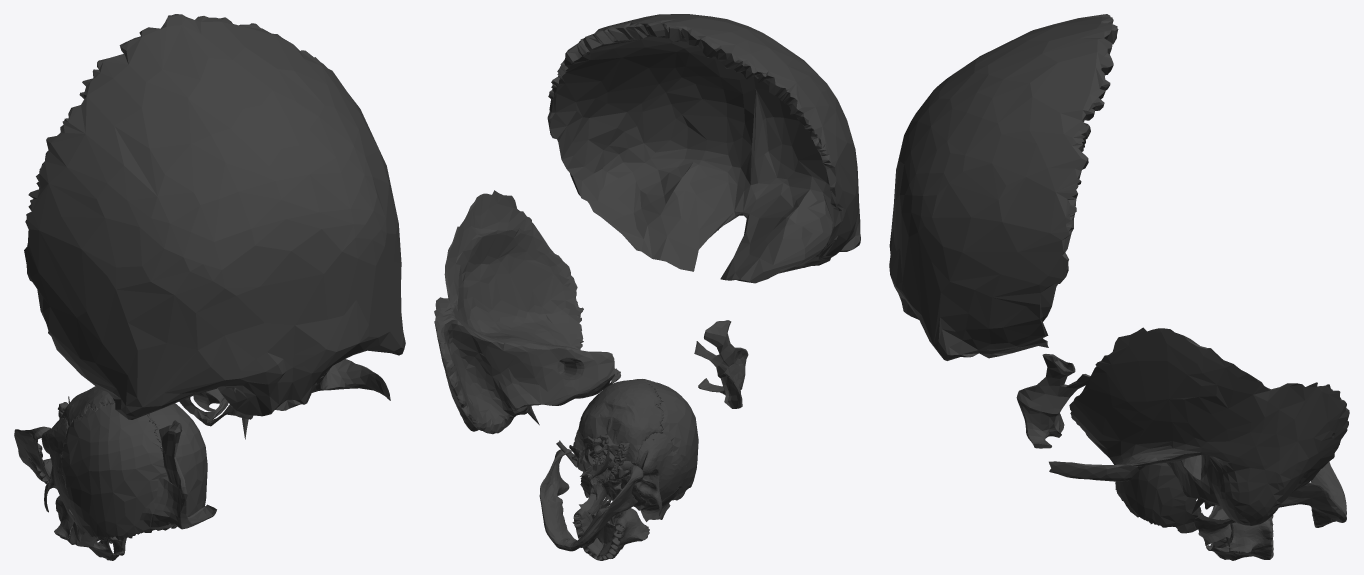
File: sharedassets21.glb
The picture shows the model from 3 angles, left to right: view 1: azimuth 30°, elevation 25°; view 2: azimuth 150°, elevation 25°; view 3: azimuth 270°, elevation 25°; orthographic projection. The views are drawn at different scales.
Visible parts, largest first — view 1: 0049_Frontal__001097, 0037_Parietal, R__001095, 0111_Palatine, R__001081, 0038_Parietal, L__001094, 0050_Temporal, L__001110, 0065_Temporal, R__001120, 0016_Mandible_body_001091, 0102_Maxilla, R_body_001078_004, 0039_Occipital__001132, 0053_Foramen lacerum, temporal surface, L__00; view 2: 0049_Frontal__001097, 0050_Temporal, L__001110, 0039_Occipital__001132, 0016_Mandible_body_001091, 0065_Temporal, R__001120, 0037_Parietal, R__001095, 0111_Palatine, R__001081, 0087_Sphenoid__001143, 0102_Maxilla, R_body_001078_004, 0093_Maxilla, L_ body_001063_004; view 3: 0049_Frontal__001097, 0050_Temporal, L__001110, 0038_Parietal, L__001094, 0111_Palatine, R__001081, 0016_Mandible_body_001091, 0093_Maxilla, L_ body_001063_004, 0087_Sphenoid__001143.
Boxes of the visible parts, bbox=[...] form: 0049_Frontal__001097: bbox=[24, 14, 405, 419]; 0037_Parietal, R__001095: bbox=[61, 402, 172, 539]; 0111_Palatine, R__001081: bbox=[140, 420, 216, 529]; 0038_Parietal, L__001094: bbox=[147, 403, 207, 528]; 0050_Temporal, L__001110: bbox=[193, 359, 390, 439]; 0065_Temporal, R__001120: bbox=[41, 417, 70, 512]; 0016_Mandible_body_001091: bbox=[14, 426, 52, 484]; 0102_Maxilla, R_body_001078_004: bbox=[54, 495, 114, 558]; 0039_Occipital__001132: bbox=[59, 386, 115, 427]; 0053_Foramen lacerum, temporal surface, L__00: bbox=[179, 388, 228, 419]; 0049_Frontal__001097: bbox=[547, 14, 860, 283]; 0050_Temporal, L__001110: bbox=[434, 190, 620, 434]; 0039_Occipital__001132: bbox=[573, 379, 663, 480]; 0016_Mandible_body_001091: bbox=[539, 449, 643, 551]; 0065_Temporal, R__001120: bbox=[621, 432, 687, 515]; 0037_Parietal, R__001095: bbox=[647, 380, 698, 500]; 0111_Palatine, R__001081: bbox=[694, 320, 748, 408]; 0087_Sphenoid__001143: bbox=[579, 471, 678, 521]; 0102_Maxilla, R_body_001078_004: bbox=[597, 508, 649, 560]; 0093_Maxilla, L_ body_001063_004: bbox=[572, 506, 607, 560]; 0049_Frontal__001097: bbox=[889, 14, 1118, 360]; 0050_Temporal, L__001110: bbox=[1049, 327, 1349, 525]; 0038_Parietal, L__001094: bbox=[1116, 463, 1201, 533]; 0111_Palatine, R__001081: bbox=[1016, 354, 1090, 448]; 0016_Mandible_body_001091: bbox=[1279, 461, 1346, 527]; 0093_Maxilla, L_ body_001063_004: bbox=[1210, 519, 1273, 560]; 0087_Sphenoid__001143: bbox=[1194, 500, 1235, 545].
Bounding box in the file's own units: 0.1902 × 0.2819 × 0.2209.
1 material, 1 textured.
